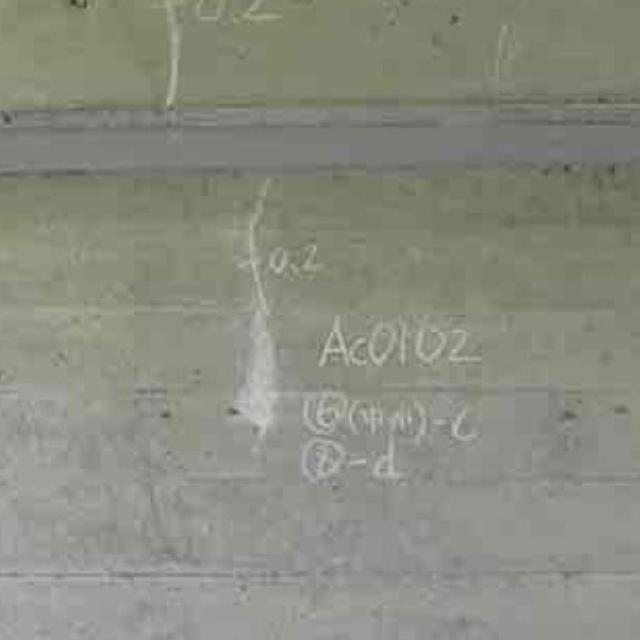freelime: (227, 247, 282, 460)
